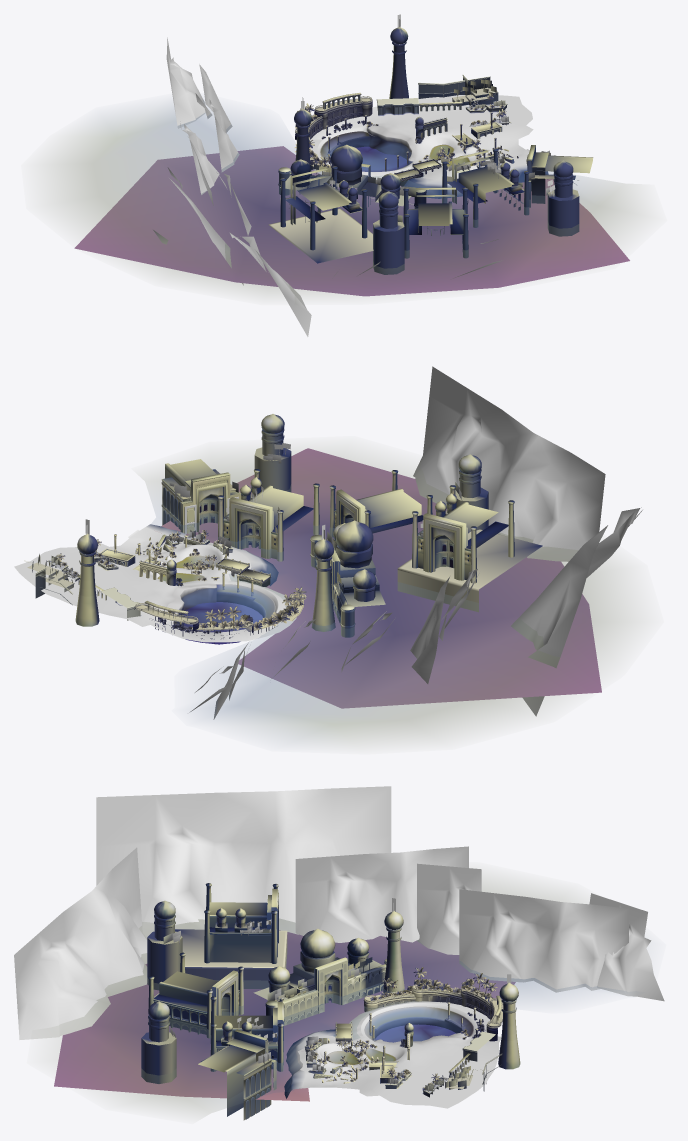
Rendered from 03Oasis.gltf.
The picture shows the model from 3 angles, top to bottom: view 1: azimuth 30°, elevation 25°; view 2: azimuth 150°, elevation 25°; view 3: azimuth 270°, elevation 25°; orthographic projection. The views are drawn at different scales.
Parts seen in each view (by area): view 1: stg010_w26_Mesh_0000, stg010_a33_Mesh_0002, stg010_o31_Mesh_0000, stg010_o33_Mesh_0021, stg010_p11_Mesh_0004, stg010_o33_Mesh_0014, stg010_o10_Mesh_0007, stg010_o30_Mesh_0006, stg010_o30_Mesh_0001, stg010_a28_Mesh_0003, stg010_o30_Mesh_0003, stg010_o30_Mesh_0002 (+7 smaller); view 2: stg010_w26_Mesh_0000, stg010_a33_Mesh_0002, stg010_p11_Mesh_0004, stg010_o31_Mesh_0000, stg010_o33_Mesh_0021, stg010_o10_Mesh_0007, stg010_o33_Mesh_0014, stg010_o30_Mesh_0004, stg010_o30_Mesh_0006, stg010_o30_Mesh_0001, stg010_o30_Mesh_0003, stg010_o30_Mesh_0002 (+7 smaller); view 3: stg010_p11_Mesh_0004, stg010_w26_Mesh_0000, stg010_a33_Mesh_0002, stg010_o31_Mesh_0000, stg010_o33_Mesh_0021, stg010_o10_Mesh_0007, stg010_o30_Mesh_0003, stg010_o30_Mesh_0001, stg010_o30_Mesh_0004, stg010_o33_Mesh_0014, stg010_o30_Mesh_0006, stg010_p33_Mesh_0000 (+10 smaller).
Boxes of the visible parts, bbox=[...] form: stg010_w26_Mesh_0000: bbox=[48, 103, 641, 294]; stg010_a33_Mesh_0002: bbox=[74, 131, 629, 296]; stg010_o31_Mesh_0000: bbox=[268, 75, 593, 263]; stg010_o33_Mesh_0021: bbox=[310, 95, 533, 179]; stg010_p11_Mesh_0004: bbox=[153, 37, 502, 336]; stg010_o33_Mesh_0014: bbox=[271, 87, 578, 262]; stg010_o10_Mesh_0007: bbox=[281, 97, 579, 274]; stg010_o30_Mesh_0006: bbox=[279, 45, 529, 258]; stg010_o30_Mesh_0001: bbox=[290, 27, 573, 208]; stg010_a28_Mesh_0003: bbox=[367, 125, 548, 198]; stg010_o30_Mesh_0003: bbox=[291, 42, 573, 224]; stg010_o30_Mesh_0002: bbox=[281, 42, 572, 223]; stg010_w26_Mesh_0000: bbox=[144, 452, 633, 742]; stg010_a33_Mesh_0002: bbox=[158, 448, 601, 708]; stg010_p11_Mesh_0004: bbox=[189, 366, 642, 719]; stg010_o31_Mesh_0000: bbox=[24, 429, 542, 643]; stg010_o33_Mesh_0021: bbox=[14, 527, 296, 642]; stg010_o10_Mesh_0007: bbox=[79, 454, 513, 631]; stg010_o33_Mesh_0014: bbox=[27, 447, 539, 631]; stg010_o30_Mesh_0004: bbox=[35, 481, 461, 632]; stg010_o30_Mesh_0006: bbox=[81, 480, 514, 637]; stg010_o30_Mesh_0001: bbox=[48, 414, 481, 610]; stg010_o30_Mesh_0003: bbox=[79, 429, 481, 624]; stg010_o30_Mesh_0002: bbox=[37, 428, 513, 632]; stg010_p11_Mesh_0004: bbox=[14, 786, 664, 1039]; stg010_w26_Mesh_0000: bbox=[62, 877, 612, 1114]; stg010_a33_Mesh_0002: bbox=[54, 930, 515, 1101]; stg010_o31_Mesh_0000: bbox=[141, 883, 503, 1120]; stg010_o33_Mesh_0021: bbox=[300, 1001, 501, 1108]; stg010_o10_Mesh_0007: bbox=[141, 887, 500, 1083]; stg010_o30_Mesh_0003: bbox=[148, 889, 516, 1083]; stg010_o30_Mesh_0001: bbox=[148, 900, 518, 1095]; stg010_o30_Mesh_0004: bbox=[217, 895, 517, 1100]; stg010_o33_Mesh_0014: bbox=[141, 930, 503, 1092]; stg010_o30_Mesh_0006: bbox=[148, 892, 515, 1091]; stg010_p33_Mesh_0000: bbox=[163, 922, 466, 1094].
Bounding box in the file's own units: 888 × 224 × 917.
